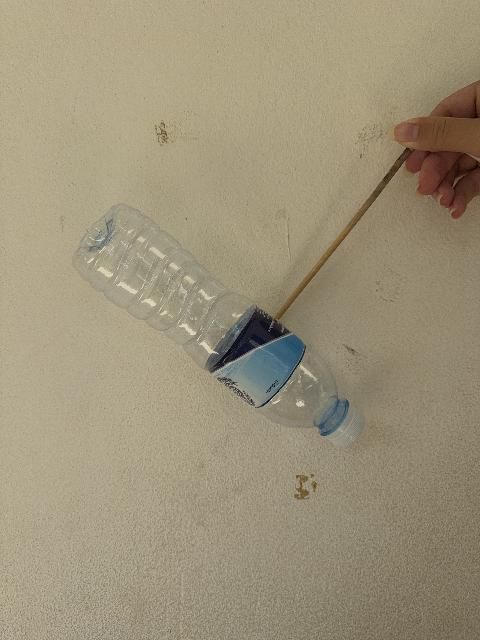bottle: (73, 205, 364, 446)
